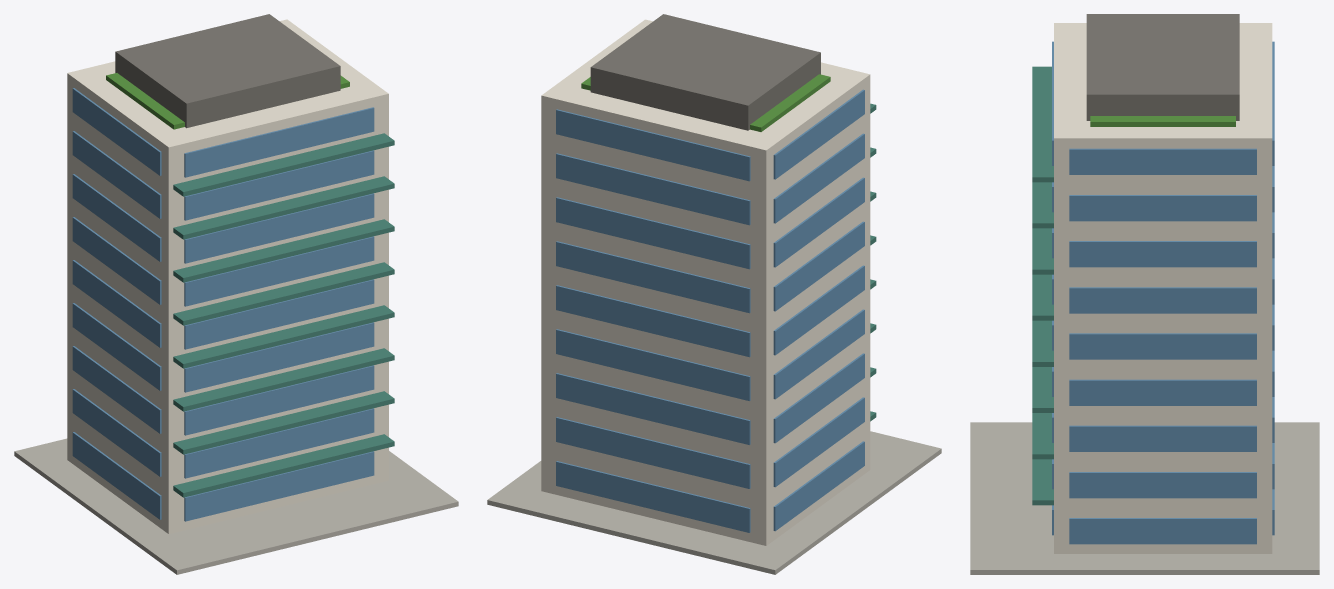
File: zone_R_d3_e4.glb
3 views of the same model, side by side, from view 1: azimuth 30°, elevation 25°; view 2: azimuth 150°, elevation 25°; view 3: azimuth 270°, elevation 25° (orthographic). The views are drawn at different scales.
Parts seen in each view (by area): view 1: zone_R_d3_e4; view 2: zone_R_d3_e4; view 3: zone_R_d3_e4.
Boxes of the visible parts, bbox=[...] form: zone_R_d3_e4: bbox=[14, 14, 458, 574]; zone_R_d3_e4: bbox=[487, 14, 941, 574]; zone_R_d3_e4: bbox=[970, 14, 1319, 574].
Size of the model in its own units: 0.96 by 1.36 by 0.96.
